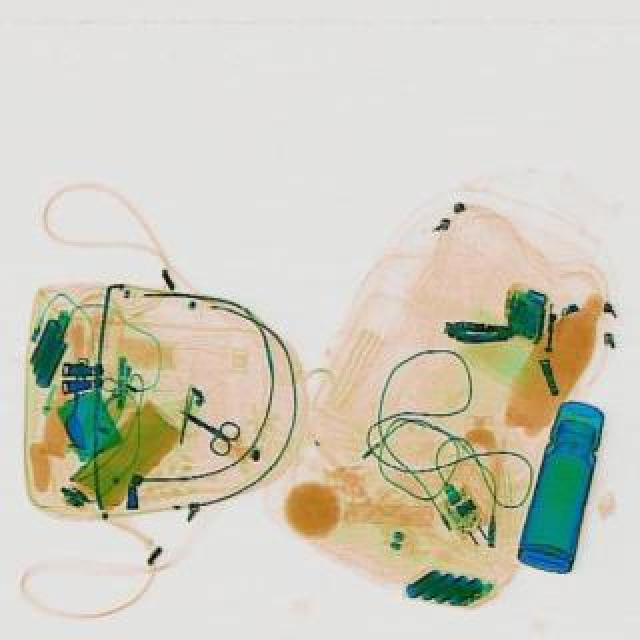pliers: (168, 394, 244, 456)
